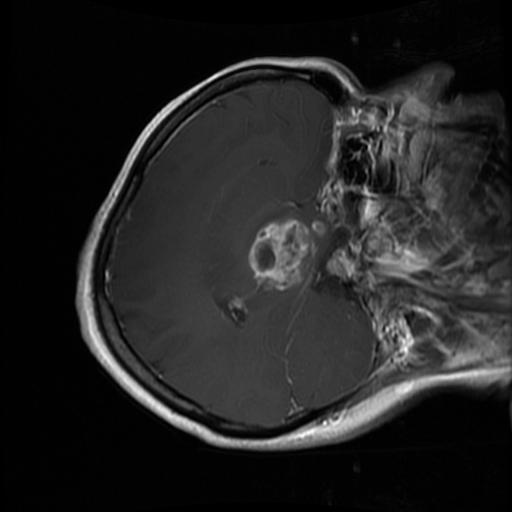glioma: (250, 216, 330, 292)
